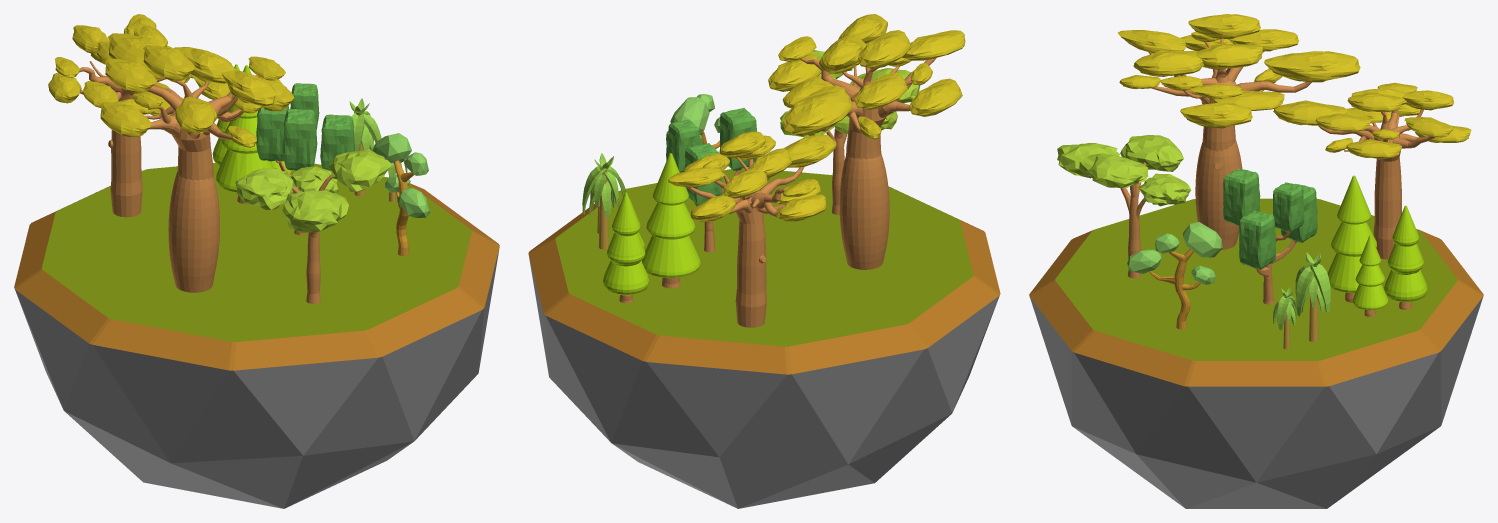
File: Low-Poly-Tree-Pack-By-EdwinRCED.dae
The picture shows the model from 3 angles, left to right: view 1: azimuth 30°, elevation 25°; view 2: azimuth 150°, elevation 25°; view 3: azimuth 270°, elevation 25°; orthographic projection. The views are drawn at different scales.
Visible parts, largest first — view 1: Icosphere, Icosphere_002, Sphere_005, Icosphere_003, Icosphere_001, Sphere_024_001, Cylinder_004, Cylinder_001, Cylinder_003, Cube_001_001; view 2: Icosphere, Icosphere_002, Sphere_005, Icosphere_003, Sphere_024_001, Cylinder_003, Cylinder_001 (×2), Cylinder_004, Icosphere_001, Cube_001_001; view 3: Icosphere, Icosphere_002, Sphere_005, Icosphere_003, Sphere_024_001, Cylinder_004 (×2), Icosphere_001, Cylinder_001 (×2), Cylinder_003, Cube_001_001, Cube_002.
Part boxes in pixels (box(x1,y1,x2,y2)): Icosphere: box(15, 247, 499, 508); Icosphere_002: box(42, 163, 471, 341); Sphere_005: box(100, 33, 294, 292); Icosphere_003: box(14, 183, 499, 370); Icosphere_001: box(235, 149, 390, 303); Sphere_024_001: box(48, 14, 193, 217); Cylinder_004: box(256, 83, 354, 235); Cylinder_001: box(372, 133, 429, 256); Cylinder_003: box(216, 65, 273, 204); Cube_001_001: box(349, 98, 381, 196); Icosphere: box(528, 255, 999, 508); Icosphere_002: box(555, 168, 973, 346); Sphere_005: box(768, 14, 965, 269); Icosphere_003: box(528, 187, 1000, 374); Sphere_024_001: box(668, 131, 836, 327); Cylinder_003: box(642, 153, 700, 288); Cylinder_001 (×2): box(603, 94, 720, 303); Cylinder_004: box(666, 108, 756, 252); Icosphere_001: box(780, 50, 920, 214); Cube_001_001: box(582, 153, 626, 249); Icosphere: box(1030, 297, 1482, 508); Icosphere_002: box(1055, 198, 1457, 360); Sphere_005: box(1118, 14, 1360, 249); Icosphere_003: box(1029, 230, 1483, 386); Sphere_024_001: box(1273, 82, 1471, 259); Cylinder_004 (×2): box(1223, 168, 1388, 316); Icosphere_001: box(1057, 135, 1190, 278); Cylinder_001 (×2): box(1127, 205, 1427, 329); Cylinder_003: box(1327, 175, 1376, 302); Cube_001_001: box(1295, 252, 1330, 341); Cube_002: box(1273, 287, 1296, 349).
Size of the model in its own units: 178 by 186 by 197.
